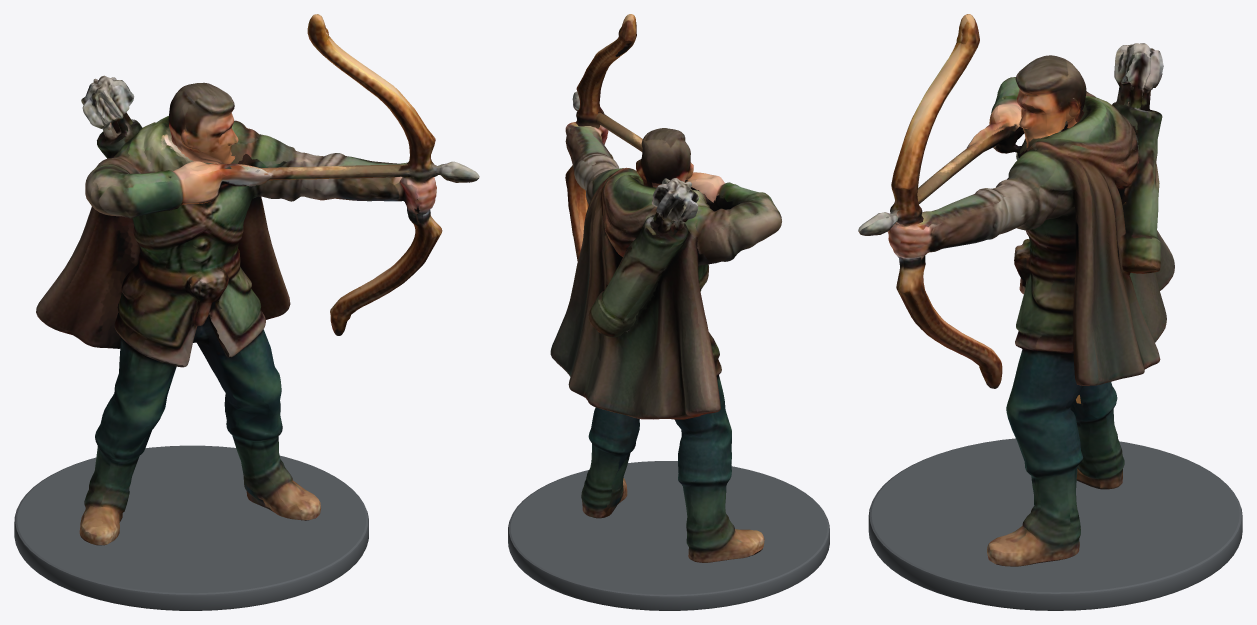
The model's file is scout.glb.
The picture shows the model from 3 angles, left to right: view 1: azimuth 30°, elevation 25°; view 2: azimuth 150°, elevation 25°; view 3: azimuth 270°, elevation 25°; orthographic projection. The views are drawn at different scales.
Visible parts, largest first — view 1: scout_body, scout_round_base; view 2: scout_body, scout_round_base; view 3: scout_body, scout_round_base.
Part boxes in pixels (<box>): scout_body: <box>36,14,479,545</box>; scout_round_base: <box>14,445,368,610</box>; scout_body: <box>550,14,781,562</box>; scout_round_base: <box>508,461,829,610</box>; scout_body: <box>858,14,1174,566</box>; scout_round_base: <box>868,438,1242,610</box>.
Size of the model in its own units: 1.13 by 1.65 by 1.03.
2 materials, 1 textured.
